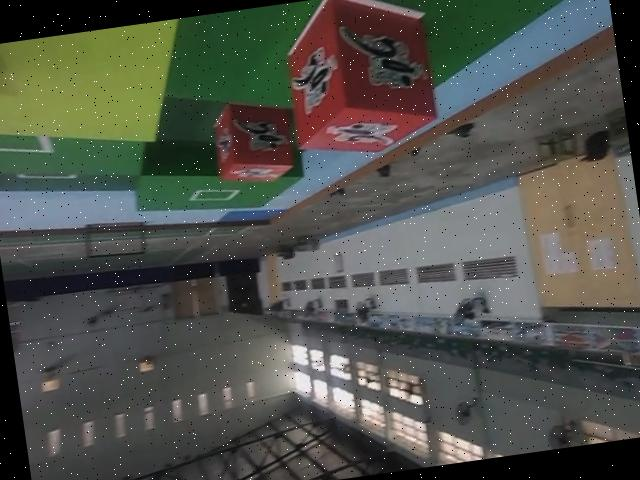R1: (275, 0, 439, 165), (206, 94, 302, 192)
